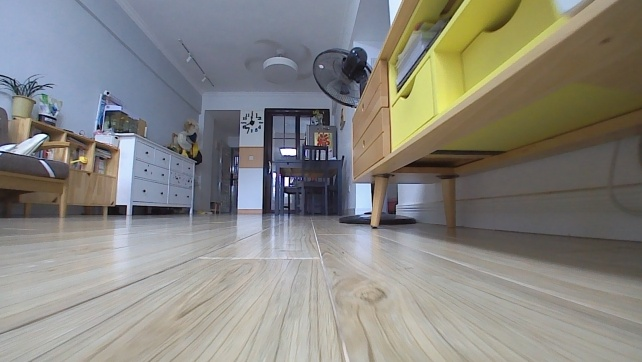TV_stand1: (346, 0, 641, 235)
cabinet: (98, 130, 199, 219)
dining_table: (269, 143, 348, 218)
sofa1: (0, 104, 72, 219)
